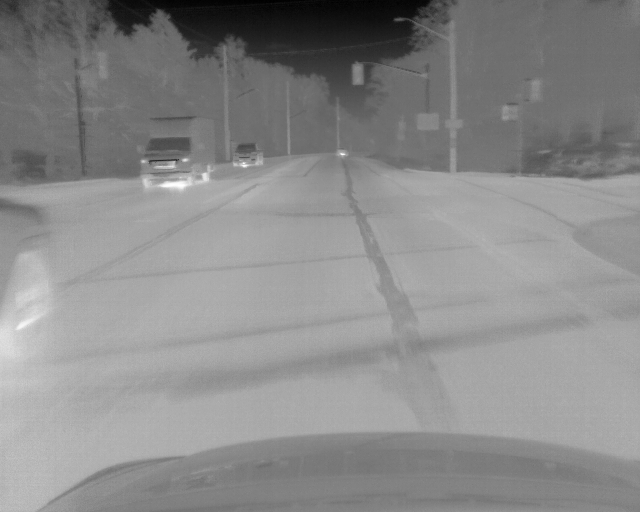car: (1, 192, 53, 360), (139, 115, 216, 189), (231, 143, 264, 168), (336, 146, 349, 159)
